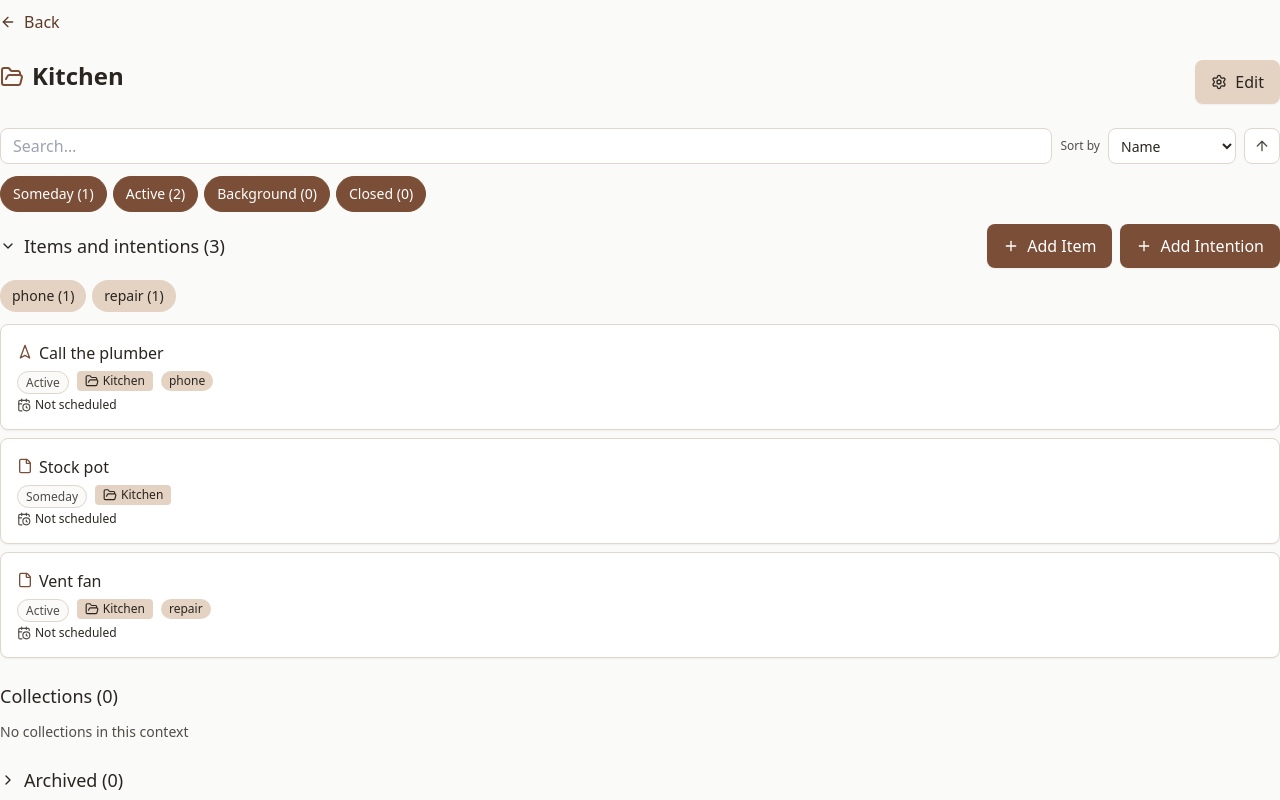
Test case: ContextDetailView edit page › Edit opens the form as the whole page, with Archive Context, and Cancel returns to the list
Click the button "Edit".
click(1238, 82)  # box [1195,60,1279,104]
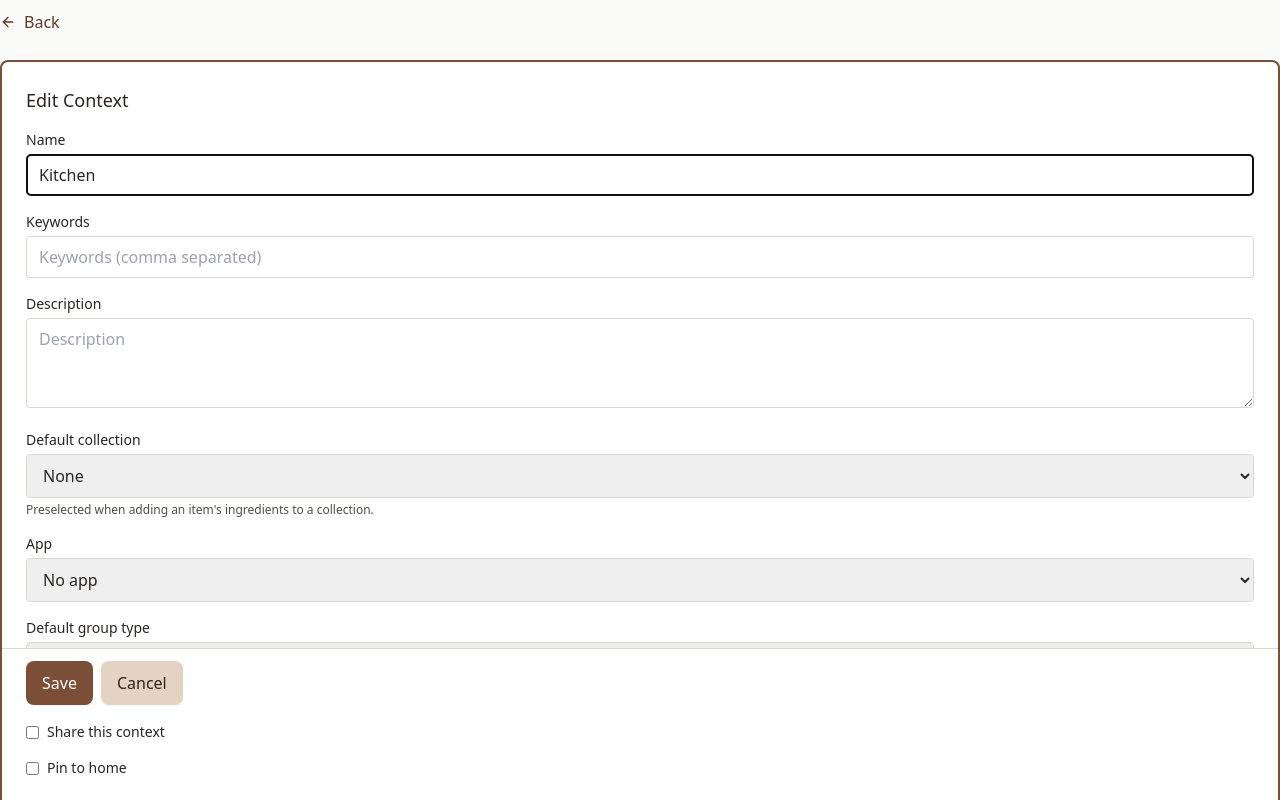
Expected: the heading "Edit Context" is shown, [26,88,129,112]
Expected: the button "Items and intentions" is gone
Expected: the button "Close" is gone
Click the button "Cancel".
click(142, 683)  # box [101,661,183,705]
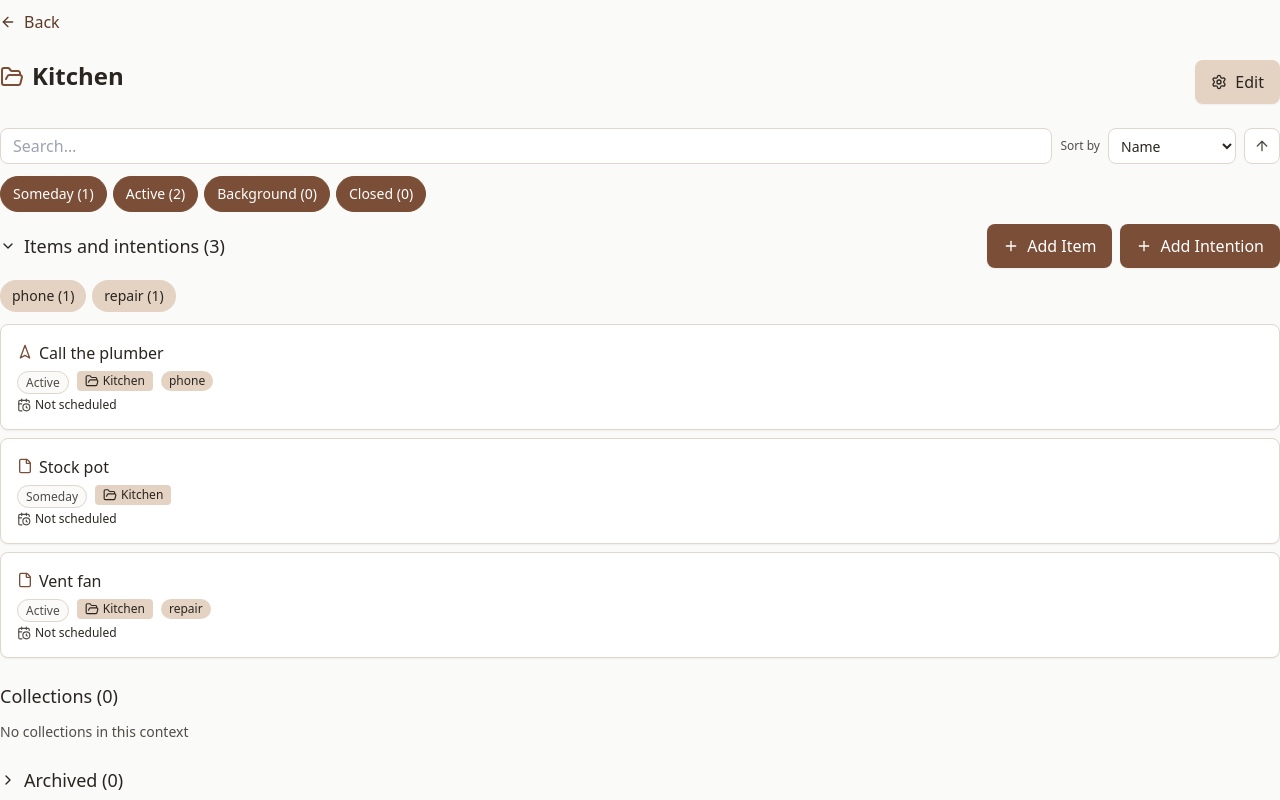
Expected: the button "Items and intentions (3)" is shown, [0,232,225,260]
